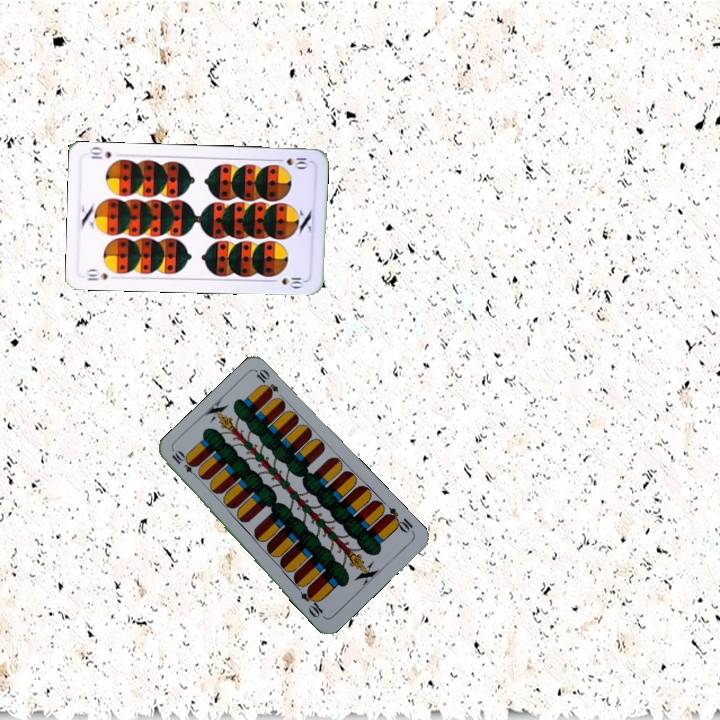E10: (381, 503, 417, 536), (168, 447, 202, 481)
S10: (272, 154, 310, 170), (83, 266, 110, 283)
